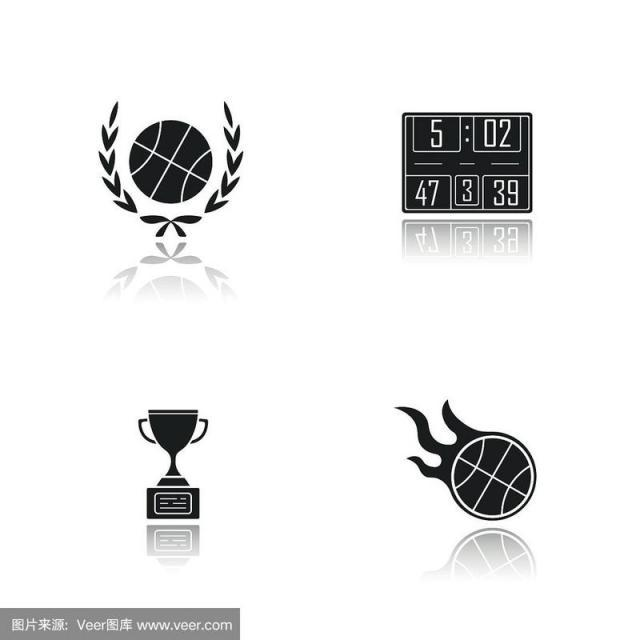rim: (450, 434, 536, 521), (133, 116, 213, 201)
